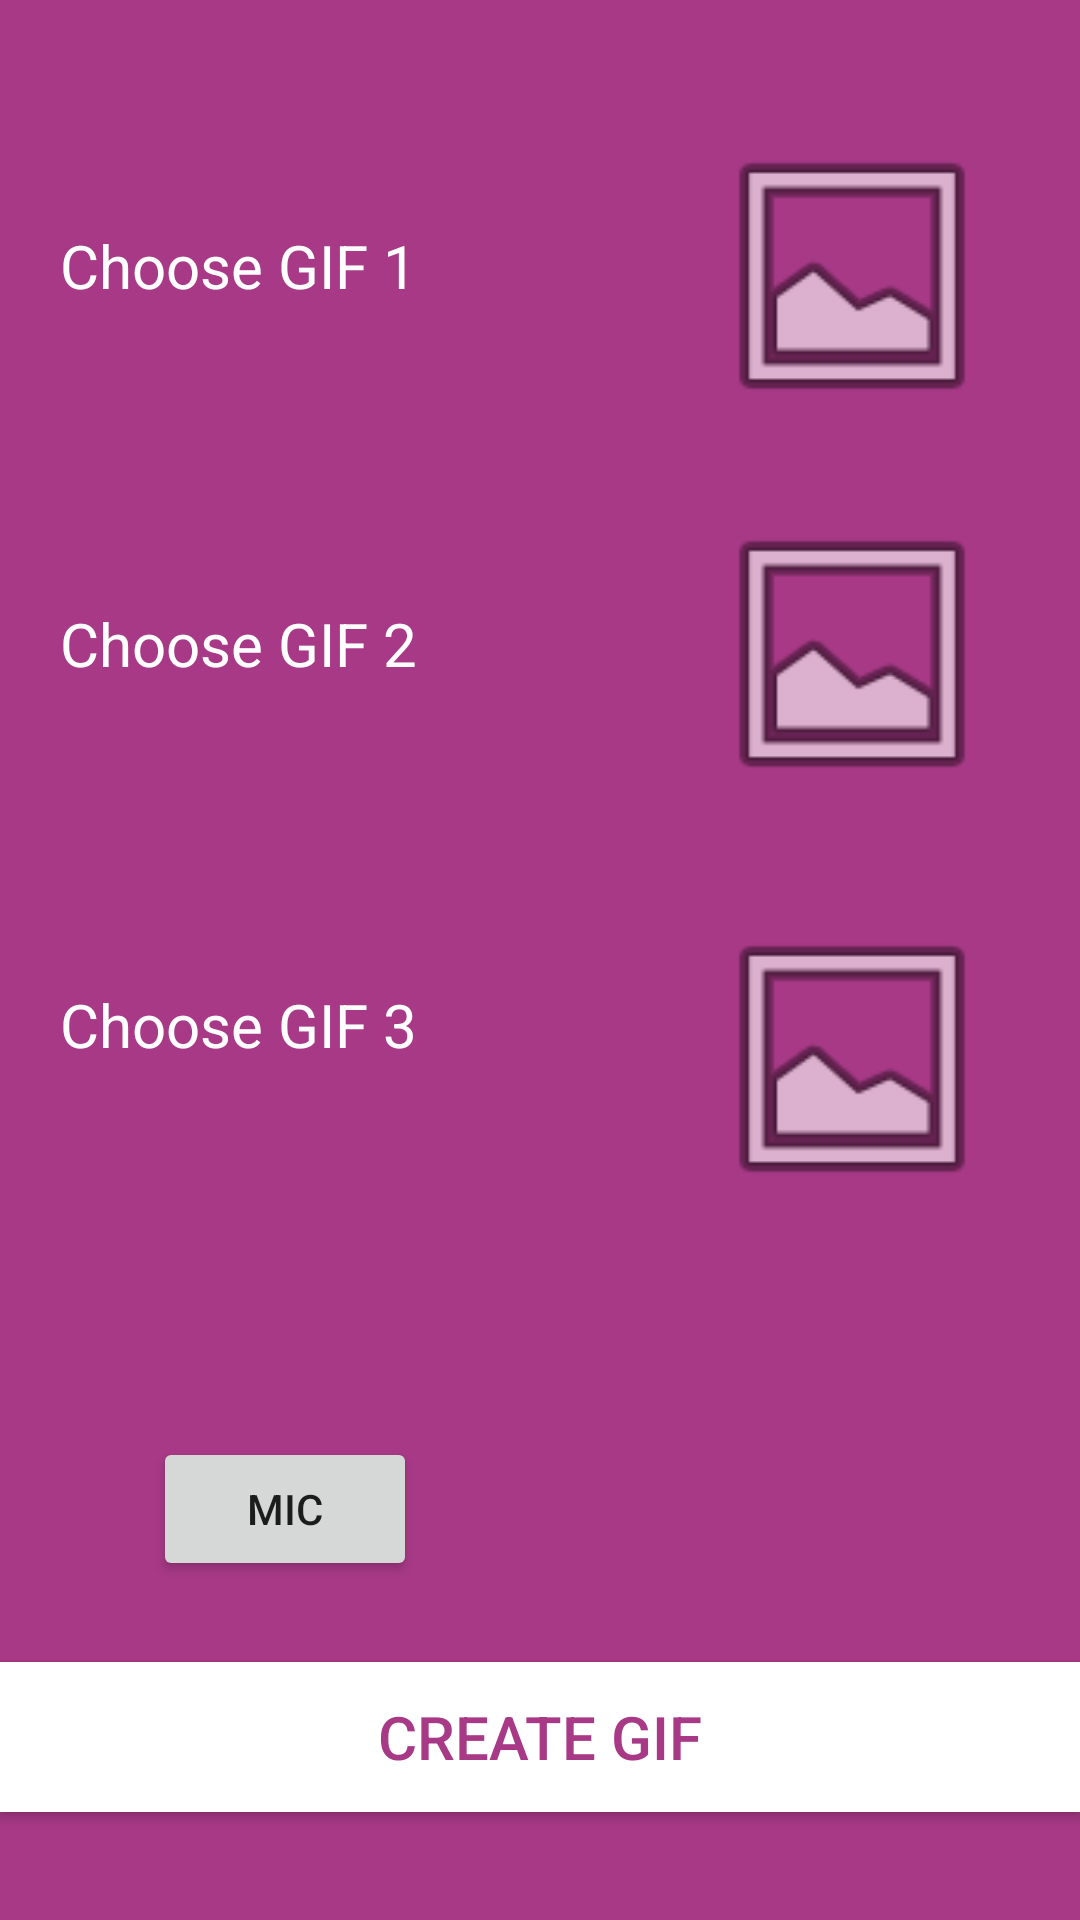

Locate icon controls on the screen. Image size 1080px×1920px, boxes as bbox(x1, y1, x2, y2).
gallery: bbox(739, 163, 965, 389), bbox(739, 541, 965, 767), bbox(739, 946, 965, 1172)
